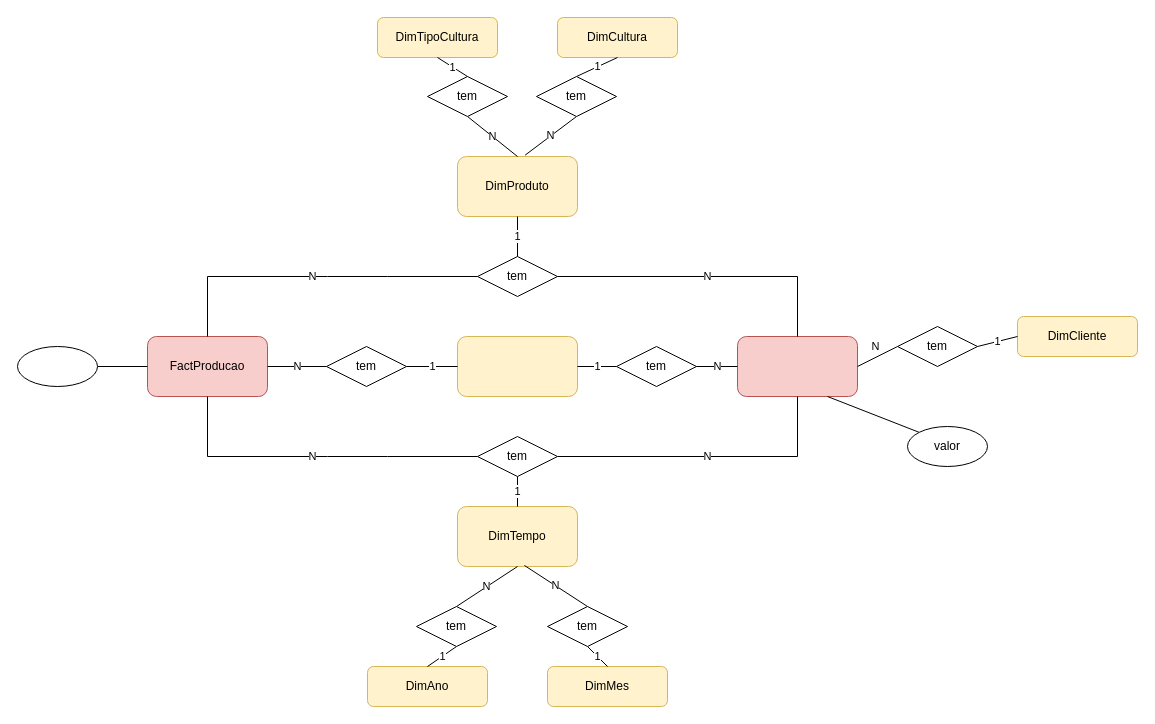
Some shapes in this 1155 by 724 pixel diagram are drawn without their labels. The shapes that lost their labels are listed below. From the top down, each one's centre as x and y in pixels, then its label:
point (57, 366): quantidade
point (517, 366): DimSetor
point (797, 366): FactVendas
